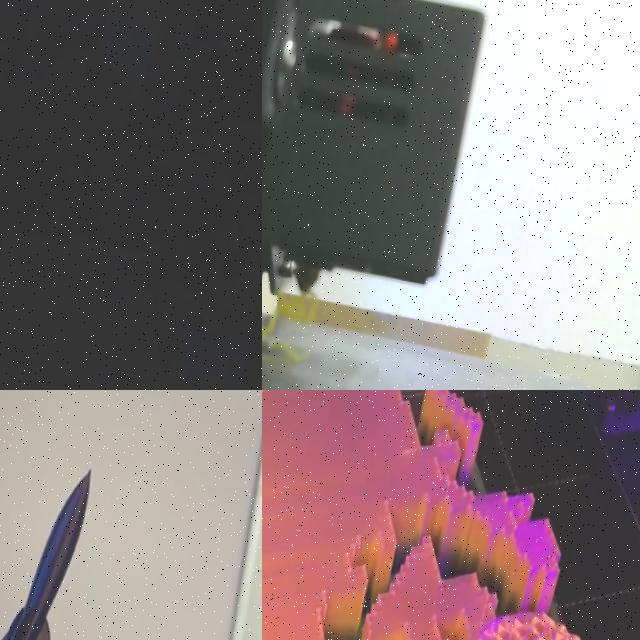spaghetti: (275, 294, 318, 322)
